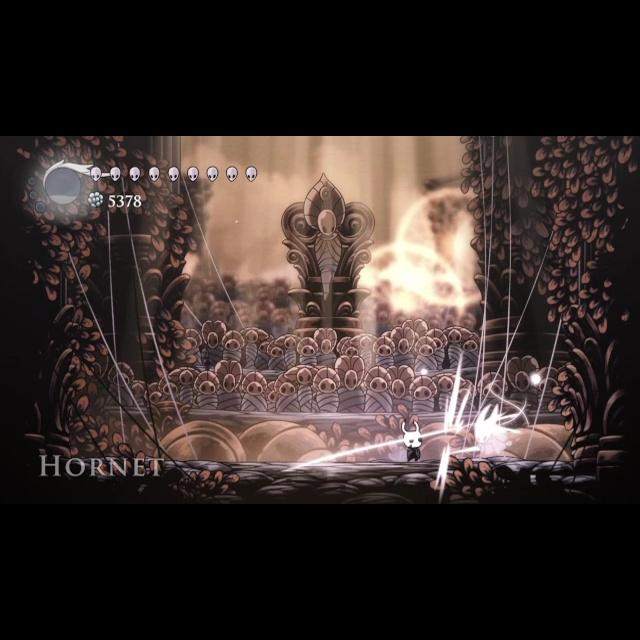EnemyDamaged: (446, 400, 526, 464)
Player: (398, 416, 426, 466)
